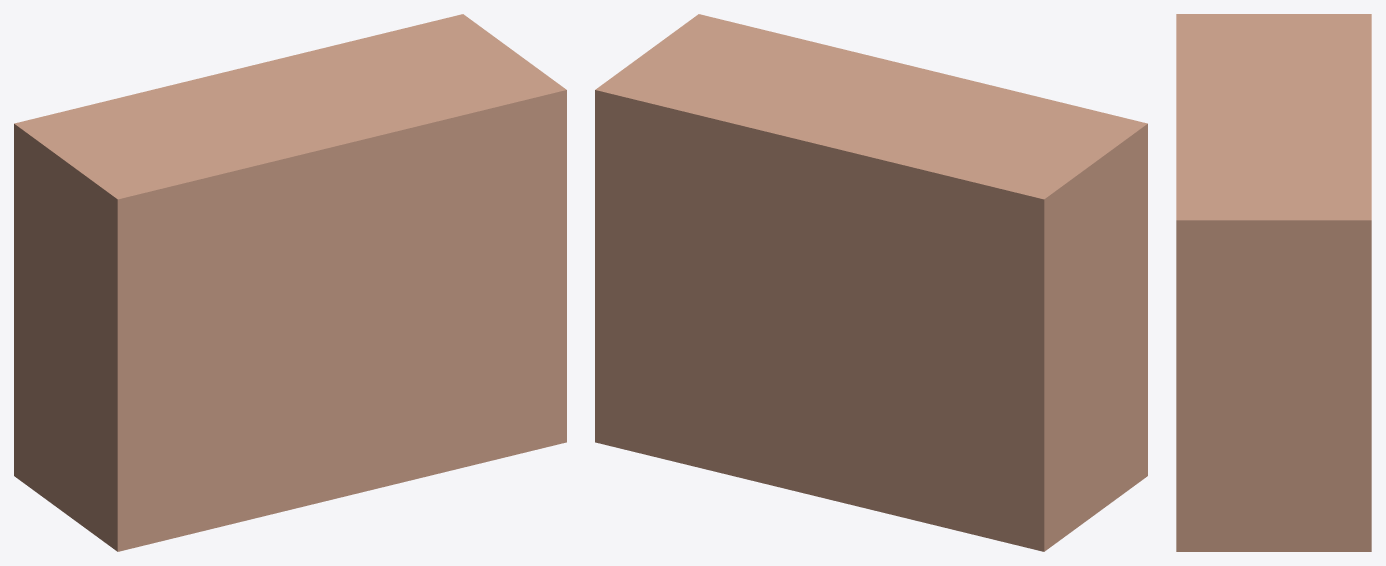
File: b-cover_high.glb
The picture shows the model from 3 angles, left to right: view 1: azimuth 30°, elevation 25°; view 2: azimuth 150°, elevation 25°; view 3: azimuth 270°, elevation 25°; orthographic projection. The views are drawn at different scales.
Visible parts, largest first — view 1: b-cover_high; view 2: b-cover_high; view 3: b-cover_high.
Boxes of the visible parts, box(x1,y1,x2,y2) form: b-cover_high: box(14, 14, 566, 551); b-cover_high: box(595, 14, 1147, 551); b-cover_high: box(1176, 14, 1371, 551).
Bounding box in the file's own units: 2 × 1.5 × 0.8.
